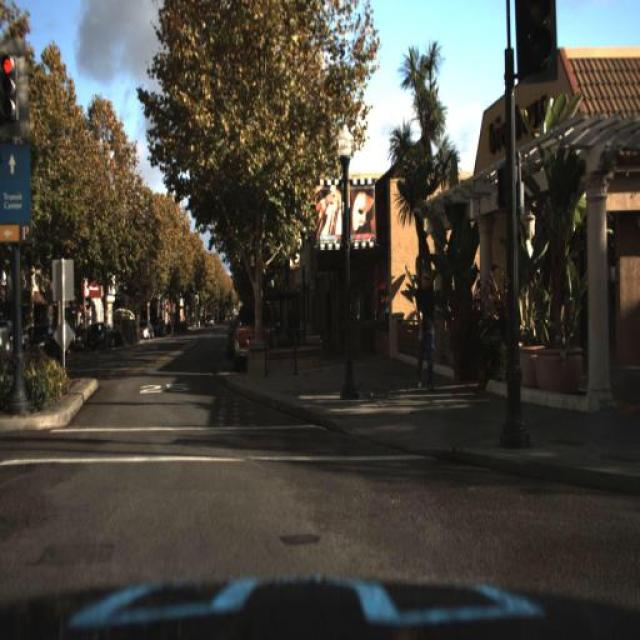car: (227, 296, 279, 366), (82, 316, 121, 356), (137, 320, 155, 344)
trafficLight: (412, 263, 438, 387), (413, 268, 441, 373)
trafficLight-RedLeft: (0, 50, 28, 142)
